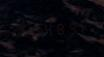eight: (51, 20, 61, 36)
five: (17, 21, 27, 38), (28, 21, 38, 37)
four: (40, 20, 50, 37)
nine: (62, 19, 72, 35)
one: (73, 18, 83, 35)
